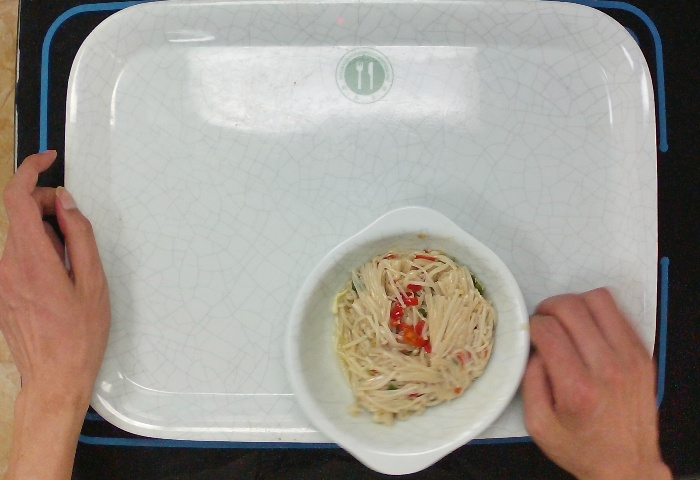JYsf-Shuang_Er_Wan: (281, 201, 533, 480)
